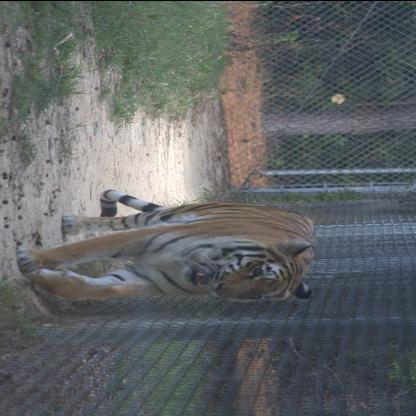tiger: (186, 239, 308, 305)
